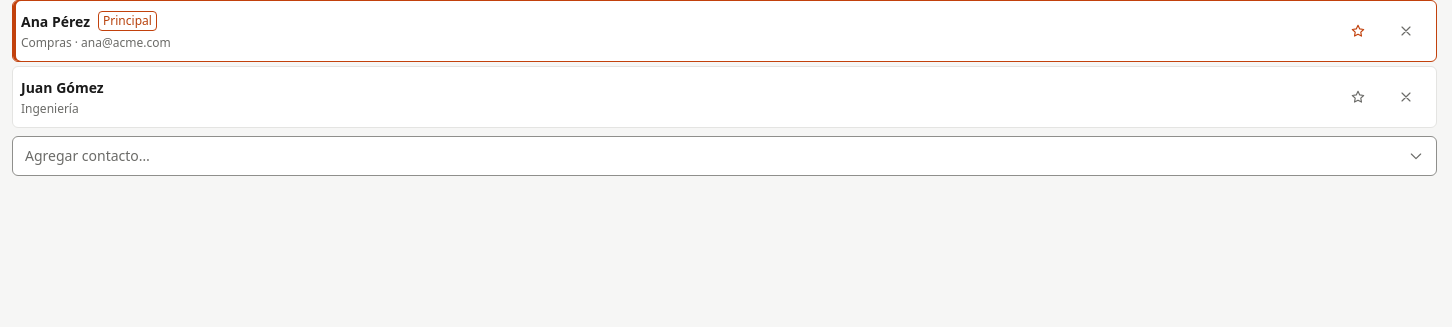
Test case: Los contactos del documento › el que ya está no se vuelve a ofrecer
Click the button "Agregar contacto…".
click(87, 156)  # box x1=12 y1=136 x2=1437 y2=176
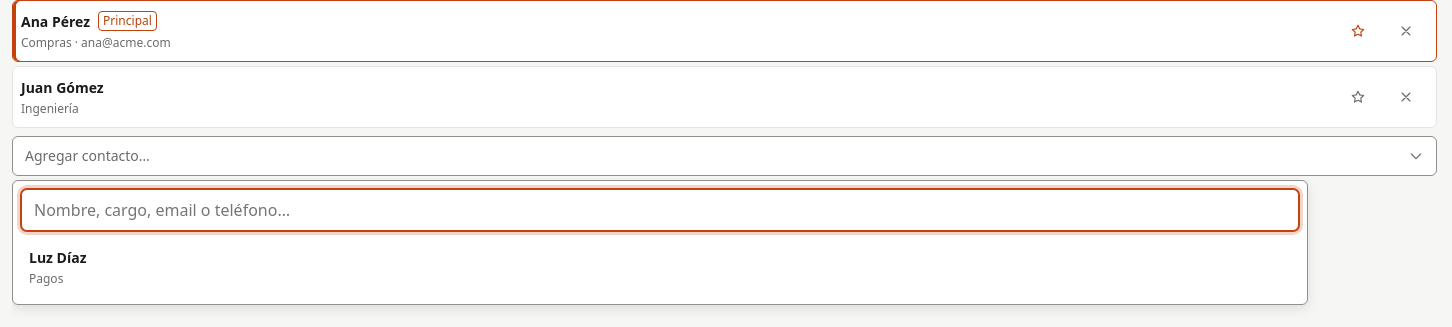
Check: the option "Luz Díaz Pagos" is shown, box x1=21 y1=239 x2=1299 y2=296
